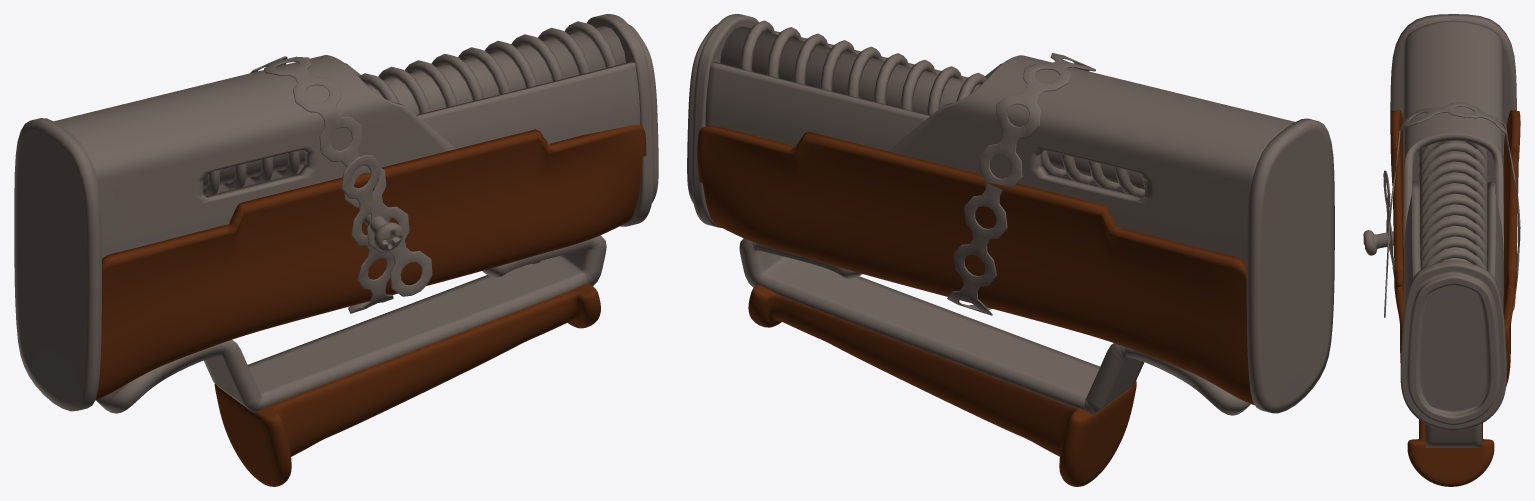
The model's file is handguard_01.fbx.
3 renders of one model, left to right at view 1: azimuth 30°, elevation 25°; view 2: azimuth 150°, elevation 25°; view 3: azimuth 270°, elevation 25°, orthographic. The views are drawn at different scales.
Parts seen in each view (by area): view 1: Cube.022, Cube.044, Cube.021, Plane.079, Cylinder.022, Cube.045, poop, Circle.045, Circle.043, Cube.055, Circle.156; view 2: Cube.022, Cube.044, Cube.021, Plane.079, Cylinder.022, Cube.045, Circle.045, poop, Circle.043, Cube.055; view 3: Cube.055, Cube.044, Circle.045, Cube.022, Cube.021, Cylinder.022, Cube.045, poop, Plane.079, Circle.043, Circle.156.
Part boxes in pixels (bbox=[...]): Cube.022: bbox=[96, 125, 646, 399]; Cube.044: bbox=[54, 55, 455, 258]; Cube.021: bbox=[14, 118, 101, 411]; Plane.079: bbox=[96, 235, 606, 413]; Cylinder.022: bbox=[214, 283, 600, 486]; Cube.045: bbox=[416, 62, 640, 148]; poop: bbox=[250, 56, 432, 313]; Circle.045: bbox=[203, 21, 616, 196]; Circle.043: bbox=[203, 26, 625, 188]; Cube.055: bbox=[587, 14, 658, 226]; Circle.156: bbox=[364, 214, 403, 250]; Cube.022: bbox=[697, 126, 1254, 405]; Cube.044: bbox=[889, 55, 1294, 263]; Cube.021: bbox=[1246, 118, 1334, 413]; Plane.079: bbox=[739, 238, 1250, 415]; Cylinder.022: bbox=[748, 284, 1136, 486]; Cube.045: bbox=[705, 31, 967, 151]; Circle.045: bbox=[740, 20, 1144, 197]; poop: bbox=[947, 53, 1095, 315]; Circle.043: bbox=[720, 26, 1144, 189]; Cube.055: bbox=[687, 14, 758, 227]; Cube.055: bbox=[1400, 260, 1506, 430]; Cube.044: bbox=[1403, 20, 1503, 259]; Circle.045: bbox=[1418, 140, 1488, 269]; Cube.022: bbox=[1390, 110, 1520, 386]; Cube.021: bbox=[1390, 14, 1516, 185]; Cylinder.022: bbox=[1407, 419, 1494, 486]; Cube.045: bbox=[1403, 181, 1503, 311]; poop: bbox=[1383, 102, 1520, 317]; Plane.079: bbox=[1425, 424, 1481, 447]; Circle.043: bbox=[1439, 140, 1471, 263]; Circle.156: bbox=[1363, 230, 1393, 255].
Size of the model in its own units: 68.28 by 45.76 by 19.47.
